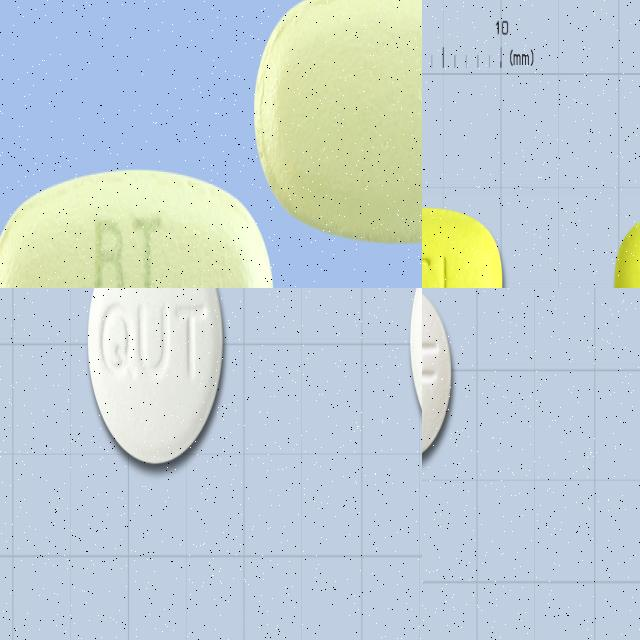Levofloxacin Tab- Withus: (422, 288, 451, 461)
Qupron Tab: (86, 288, 225, 465)
Revloxin Tab: (253, 0, 422, 245), (0, 167, 273, 288)
Zecla Tab: (422, 207, 502, 288)
